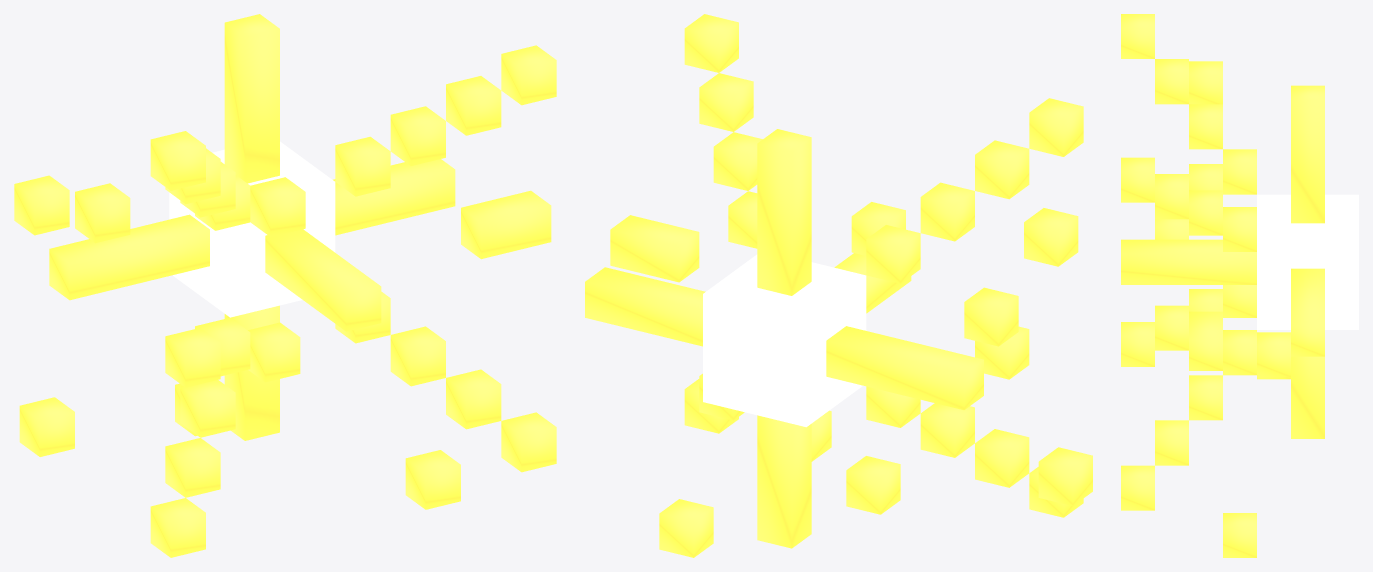
File: impact-spark.glb
The picture shows the model from 3 angles, left to right: view 1: azimuth 30°, elevation 25°; view 2: azimuth 150°, elevation 25°; view 3: azimuth 270°, elevation 25°; orthographic projection. The views are drawn at different scales.
Visible parts, largest first — view 1: layer.spark, layer.core; view 2: layer.spark, layer.core; view 3: layer.spark, layer.core.
Boxes of the visible parts, x1,y1,x2,y2 form: layer.spark: (14,14,556,557); layer.core: (169,141,335,317); layer.spark: (585,14,1092,557); layer.core: (703,254,866,427); layer.spark: (1121,14,1324,557); layer.core: (1257,194,1358,329).
Bounding box in the file's own units: 0.4375 × 0.4062 × 0.2188.
